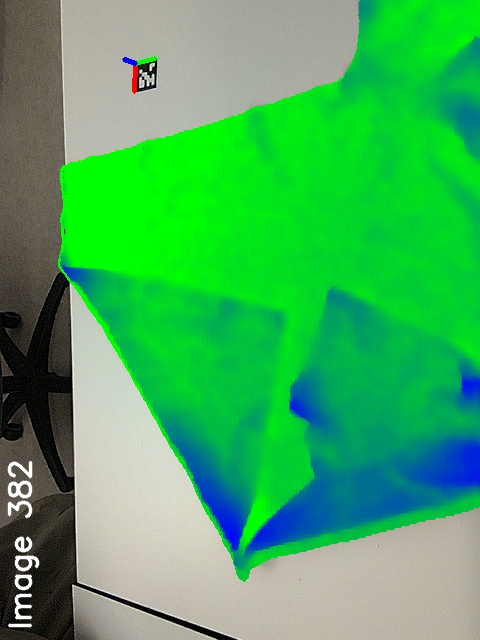V: (311, 269, 366, 325), (253, 292, 302, 343)
